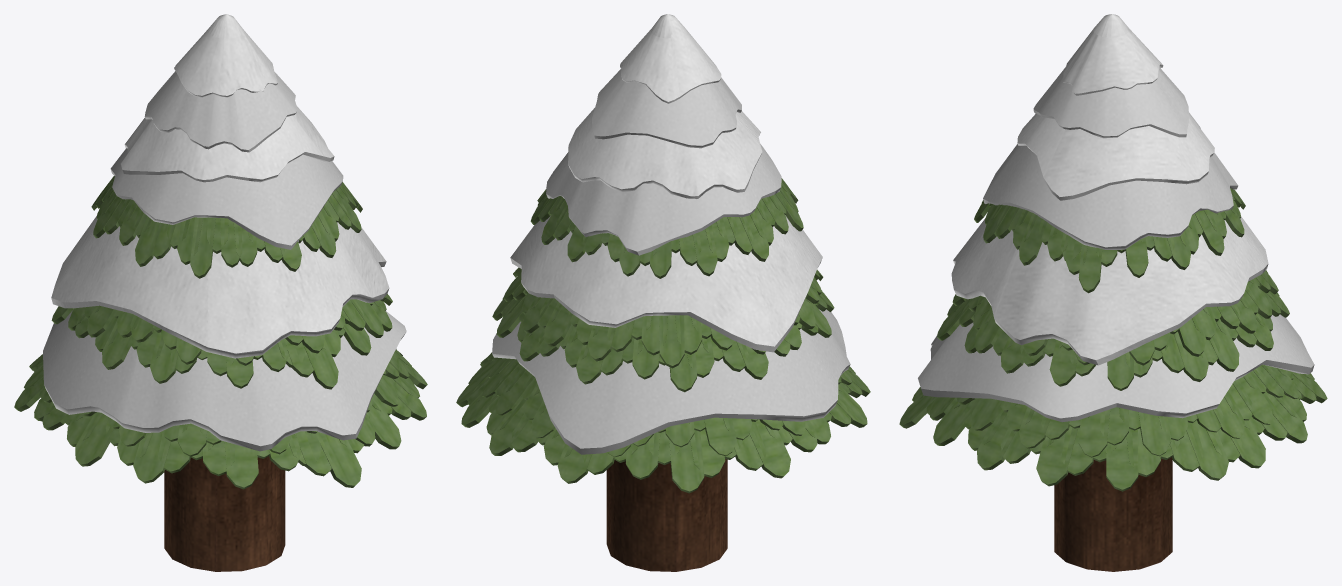
Rendered from WinterTree.fbx.
3 views of the same model, side by side, from view 1: azimuth 30°, elevation 25°; view 2: azimuth 150°, elevation 25°; view 3: azimuth 270°, elevation 25° (orthographic).
Visible parts, largest first — view 1: pCube149, pCube148, pCube142, pCylinder51, pCube150, pCube146, pCube151, pCube143, pCube152, pCube153, pCube144, pCube145; view 2: pCube148, pCube149, pCube142, pCylinder51, pCube150, pCube151, pCube146, pCube143, pCube144, pCube152, pCube145, pCube153; view 3: pCube149, pCube148, pCube142, pCube150, pCylinder51, pCube145, pCube151, pCube146, pCube143, pCube152, pCube144, pCube153.
Part boxes in pixels (x1=…): pCube149: x1=51, y1=216, x2=389, y2=358; pCube148: x1=43, y1=310, x2=406, y2=451; pCube142: x1=14, y1=349, x2=427, y2=489; pCylinder51: x1=164, y1=456, x2=285, y2=571; pCube150: x1=110, y1=148, x2=343, y2=249; pCube146: x1=91, y1=176, x2=362, y2=278; pCube151: x1=121, y1=105, x2=334, y2=182; pCube143: x1=51, y1=294, x2=392, y2=389; pCube152: x1=144, y1=71, x2=297, y2=152; pCube153: x1=174, y1=14, x2=277, y2=97; pCube144: x1=84, y1=295, x2=386, y2=365; pCube145: x1=39, y1=349, x2=409, y2=457; pCube148: x1=492, y1=309, x2=850, y2=454; pCube149: x1=510, y1=215, x2=822, y2=352; pCube142: x1=456, y1=357, x2=870, y2=493; pCylinder51: x1=606, y1=459, x2=727, y2=571; pCube150: x1=546, y1=144, x2=781, y2=255; pCube151: x1=568, y1=108, x2=762, y2=198; pCube146: x1=530, y1=178, x2=803, y2=278; pCube143: x1=492, y1=290, x2=834, y2=392; pCube144: x1=503, y1=267, x2=823, y2=368; pCube152: x1=592, y1=69, x2=741, y2=148; pCube145: x1=482, y1=352, x2=852, y2=457; pCube153: x1=620, y1=14, x2=721, y2=103; pCube149: x1=951, y1=216, x2=1268, y2=365; pCube148: x1=918, y1=314, x2=1314, y2=422; pCube142: x1=899, y1=372, x2=1327, y2=491; pCube150: x1=983, y1=144, x2=1238, y2=249; pCylinder51: x1=1054, y1=457, x2=1172, y2=571; pCube145: x1=929, y1=364, x2=1298, y2=457; pCube151: x1=1017, y1=112, x2=1214, y2=200; pCube146: x1=974, y1=188, x2=1245, y2=293; pCube143: x1=937, y1=289, x2=1289, y2=390; pCube152: x1=1033, y1=67, x2=1188, y2=138; pCube144: x1=952, y1=270, x2=1278, y2=365; pCube153: x1=1063, y1=14, x2=1163, y2=95.
Bounding box in the file's own units: 191 × 201 × 276.
1 material, 1 textured.
